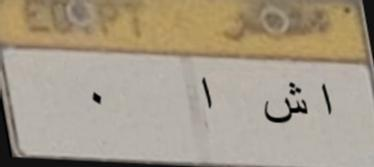0: (83, 80, 116, 122)
alif: (196, 72, 224, 115), (318, 80, 336, 122)
sheen: (264, 81, 308, 134)
